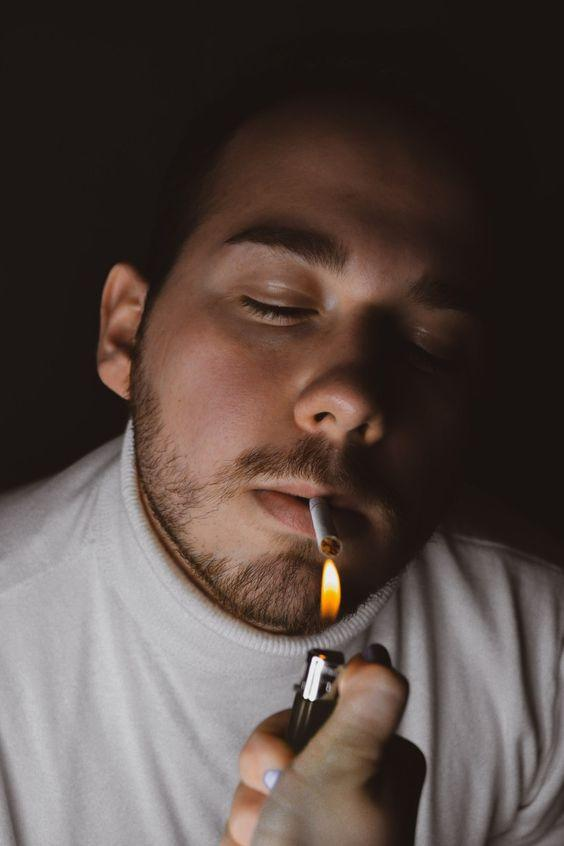cigarette: (308, 495, 343, 559)
